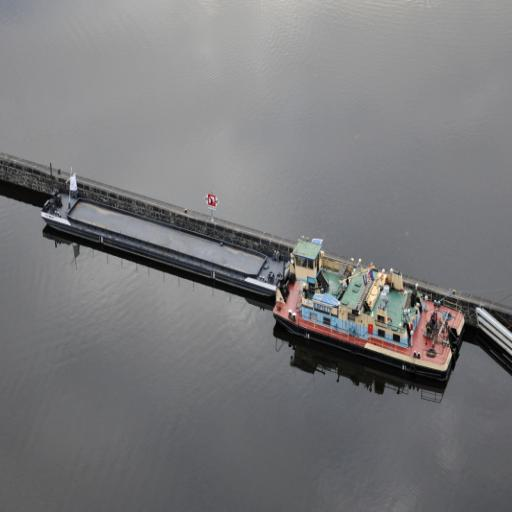tugboat: (272, 234, 471, 393)
